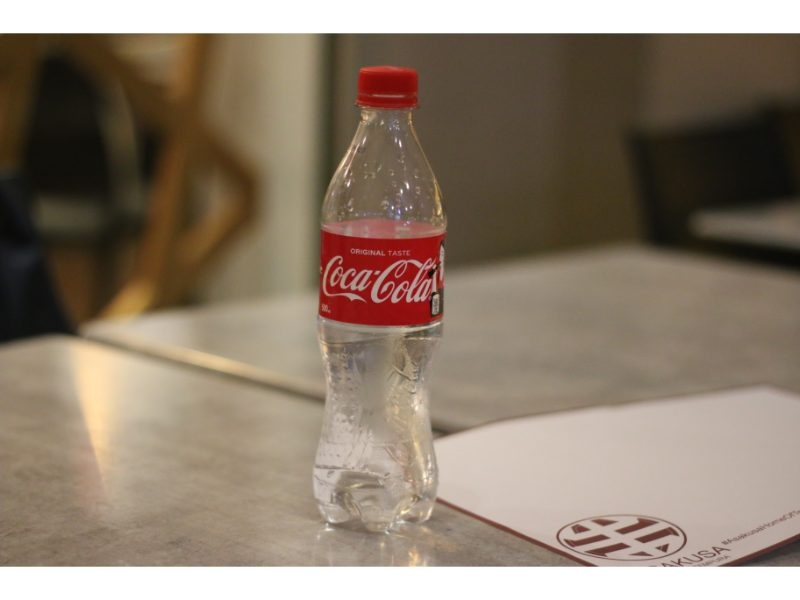PET #1: (311, 58, 451, 534)
